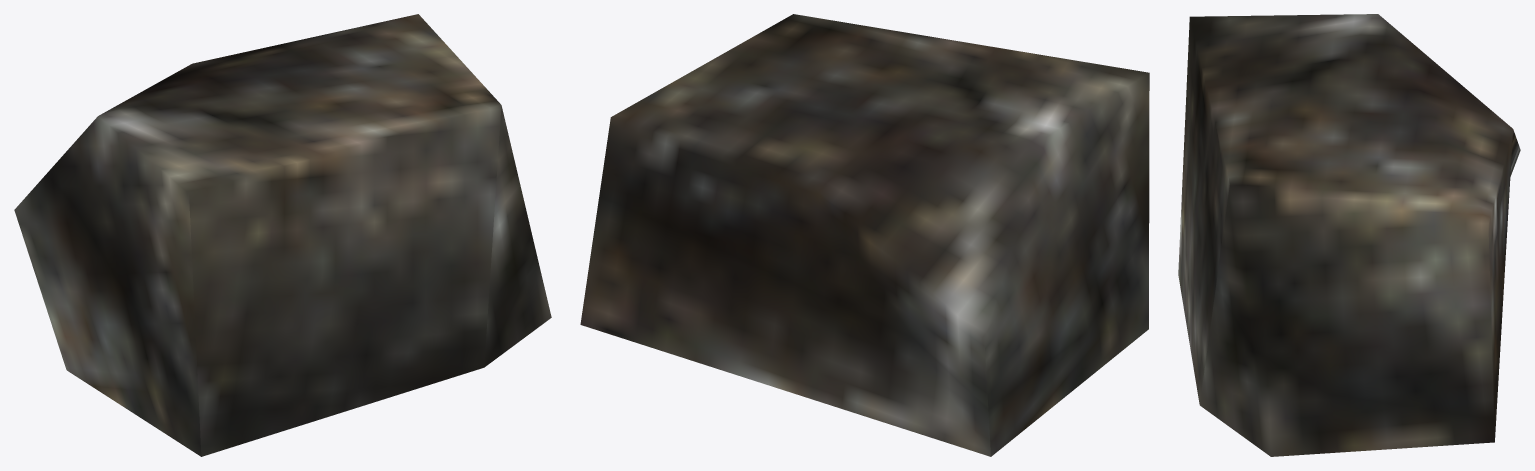
Rendered from Brick2E.fbx.
3 renders of one model, left to right at view 1: azimuth 30°, elevation 25°; view 2: azimuth 150°, elevation 25°; view 3: azimuth 270°, elevation 25°, orthographic. The views are drawn at different scales.
Visible parts, largest first — view 1: polySurface22; view 2: polySurface22; view 3: polySurface22.
Part boxes in pixels (x1=…): polySurface22: x1=14, y1=14, x2=551, y2=456; polySurface22: x1=580, y1=14, x2=1149, y2=456; polySurface22: x1=1178, y1=14, x2=1520, y2=456.
Size of the model in its own units: 0.6626 by 0.4414 by 0.4851.
